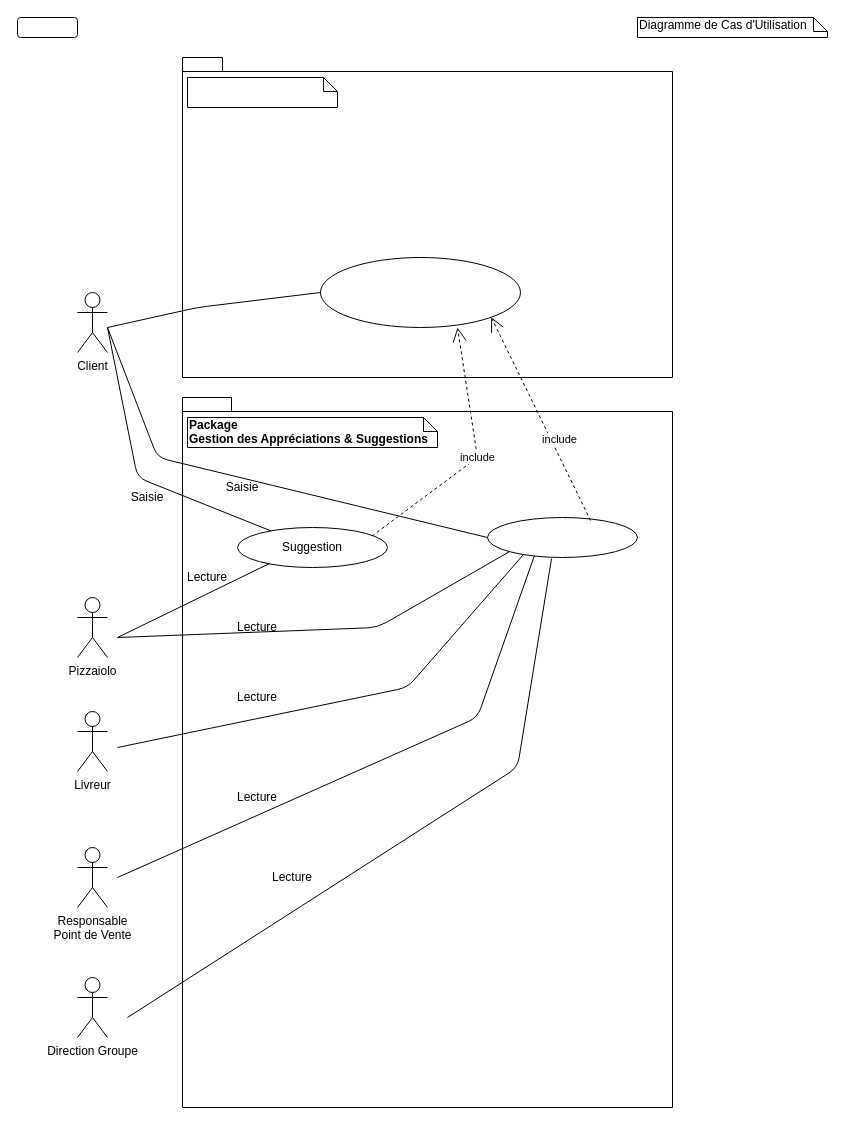
The diagram is 845 pixels wide and 1125 high, and some of its shapes have lost their labels. Each missing label, with the centre of its shape:
"Appréciation" belongs at (x=562, y=537).
"OC'Pizza" belongs at (x=47, y=27).
"Package Gestion des Livraisons" belongs at (x=262, y=92).
"Validation Livraison Reçue" belongs at (x=420, y=292).
